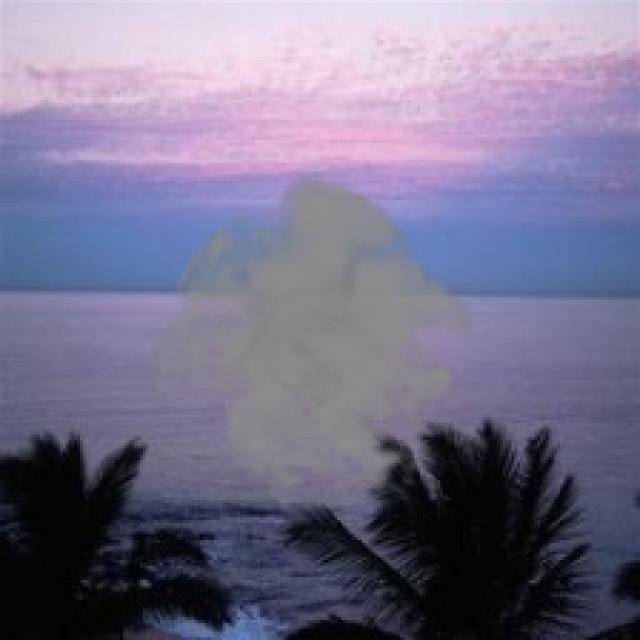Smoke: (140, 168, 489, 512)
